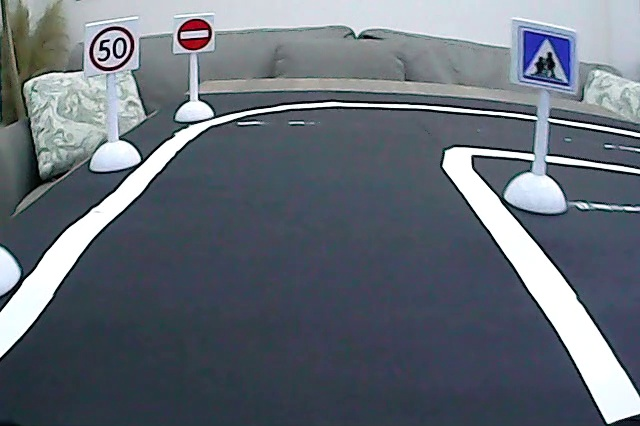do not enter: (176, 16, 215, 54)
school crossing: (517, 25, 578, 92)
speed limit 50: (88, 22, 138, 74)
